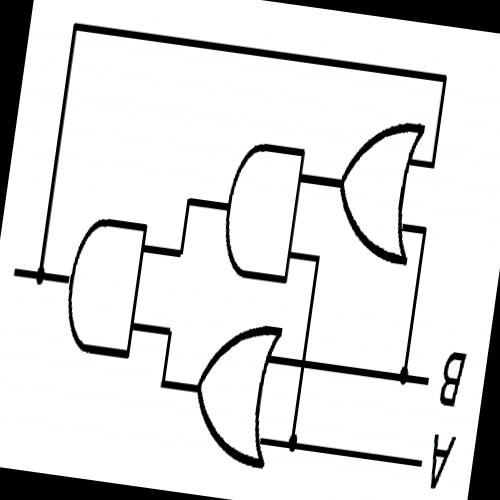and: (49, 192, 159, 374), (209, 129, 314, 295)
or: (178, 305, 294, 483), (321, 104, 432, 275)
